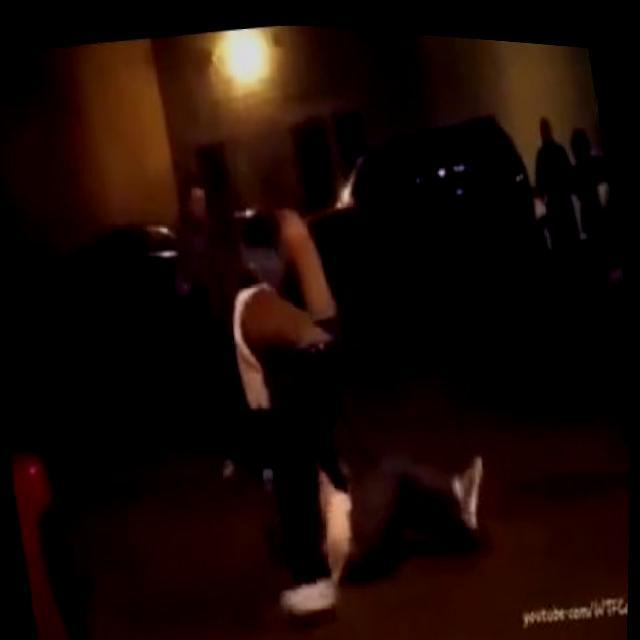fight: (196, 164, 509, 636)
